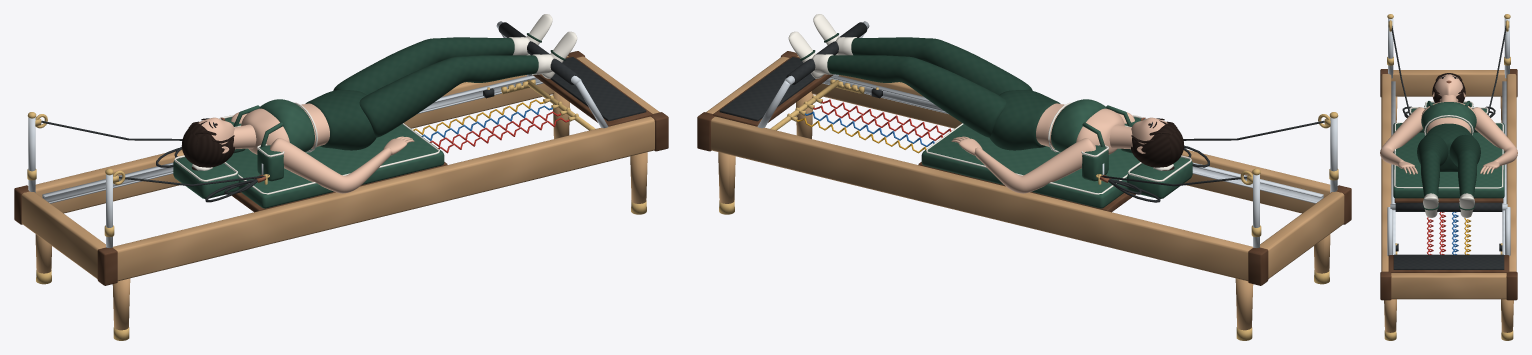
The model's file is reformer-studio-rig.glb.
3 renders of one model, left to right at view 1: azimuth 30°, elevation 25°; view 2: azimuth 150°, elevation 25°; view 3: azimuth 270°, elevation 25°, orthographic. The views are drawn at different scales.
Visible parts, largest first — view 1: SM_Studio_Dielectric, SM_Studio_Metallic; view 2: SM_Studio_Dielectric, SM_Studio_Metallic; view 3: SM_Studio_Dielectric, SM_Studio_Metallic.
Part boxes in pixels (x1=…): SM_Studio_Dielectric: x1=14, y1=14, x2=668, y2=330; SM_Studio_Metallic: x1=27, y1=21, x2=646, y2=340; SM_Studio_Dielectric: x1=697, y1=14, x2=1351, y2=330; SM_Studio_Metallic: x1=719, y1=21, x2=1338, y2=340; SM_Studio_Dielectric: x1=1380, y1=26, x2=1517, y2=332; SM_Studio_Metallic: x1=1384, y1=14, x2=1513, y2=340.
Size of the model in its own units: 2.36 by 0.6875 by 0.6608.
2 materials, 2 textured.
